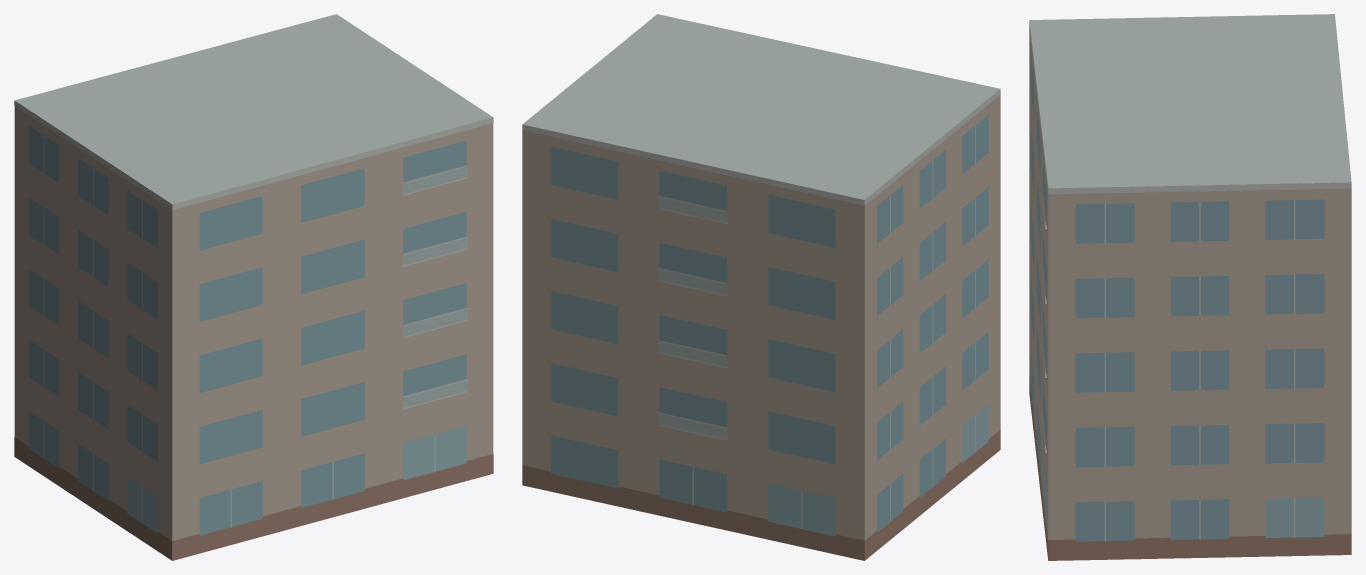
Rendered from survey-upis-32744339.glb.
3 views of the same model, side by side, from view 1: azimuth 30°, elevation 25°; view 2: azimuth 150°, elevation 25°; view 3: azimuth 270°, elevation 25° (orthographic). The views are drawn at different scales.
Parts seen in each view (by area): view 1: survey-upis-32744339.tmp; view 2: survey-upis-32744339.tmp; view 3: survey-upis-32744339.tmp.
Part boxes in pixels (box(x1,y1,x2,y2)): survey-upis-32744339.tmp: box(14, 14, 493, 560); survey-upis-32744339.tmp: box(522, 14, 1000, 560); survey-upis-32744339.tmp: box(1029, 14, 1351, 560).
Size of the model in its own units: 15.32 by 15.25 by 11.97.
